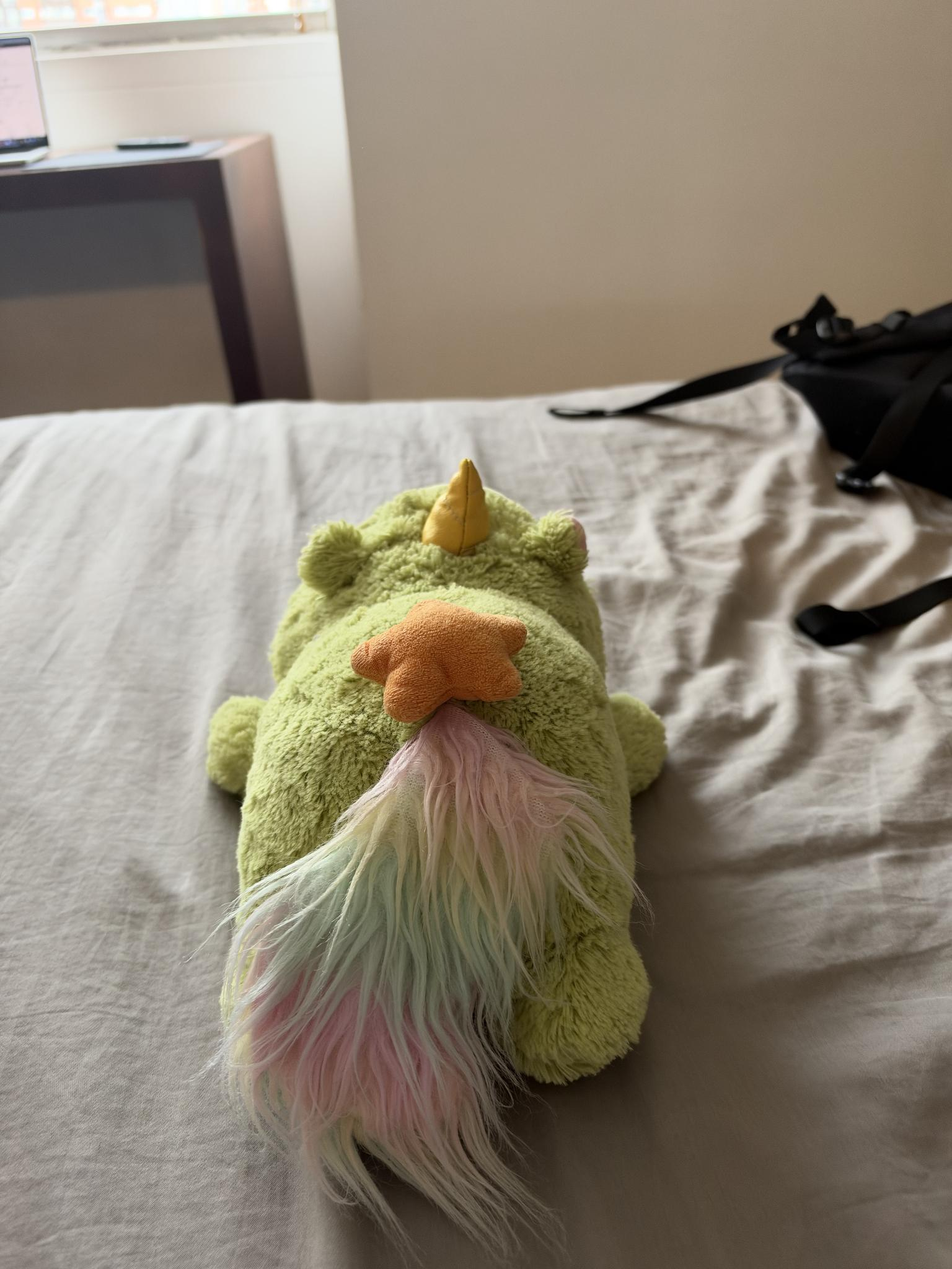peluche_martin: (202, 460, 671, 1247)
